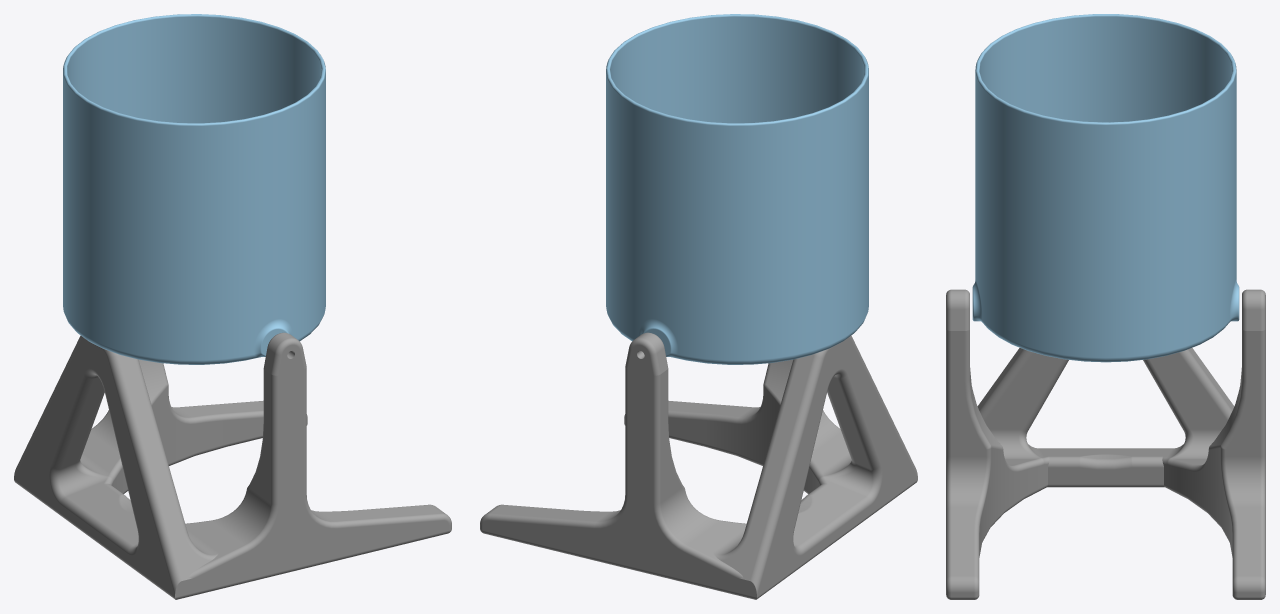
The model's file is BallContainer.dae.
3 renders of one model, left to right at view 1: azimuth 30°, elevation 25°; view 2: azimuth 150°, elevation 25°; view 3: azimuth 270°, elevation 25°, orthographic.
Visible parts, largest first — view 1: 68e27717bf5f2d900c72c56d (×2); view 2: 68e27717bf5f2d900c72c56d (×2); view 3: 68e27717bf5f2d900c72c56d (×2).
Boxes of the visible parts, left/top/right/bottom form: 68e27717bf5f2d900c72c56d (×2): left=14, top=14, right=451, bottom=599; 68e27717bf5f2d900c72c56d (×2): left=480, top=14, right=917, bottom=599; 68e27717bf5f2d900c72c56d (×2): left=946, top=14, right=1265, bottom=599.
Size of the model in its own units: 0.126 by 0.12 by 0.185.
